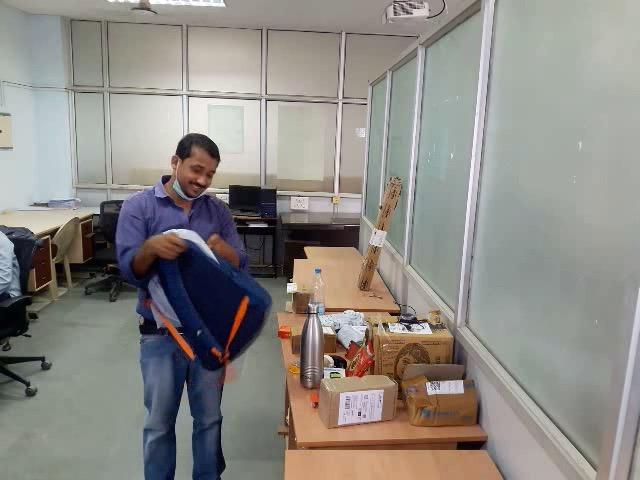shoplifting: (112, 203, 288, 411)
